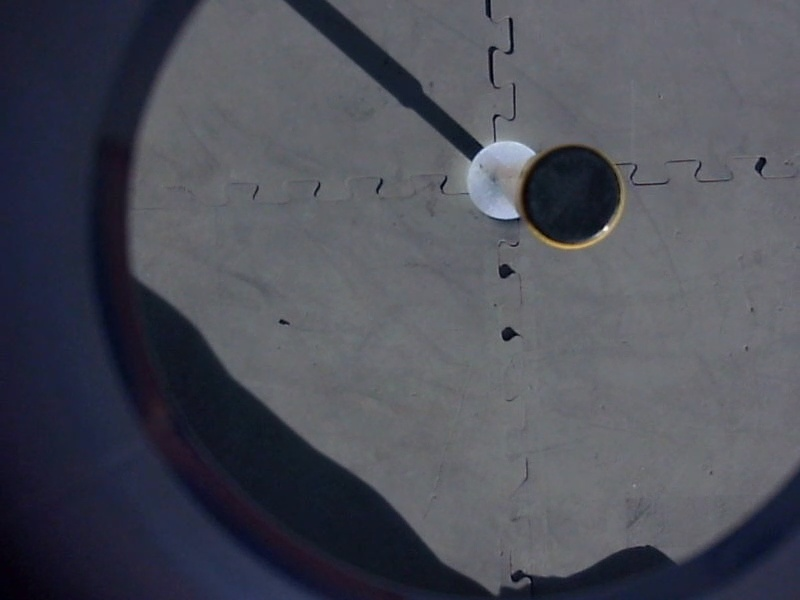tip: (516, 138, 629, 255)
